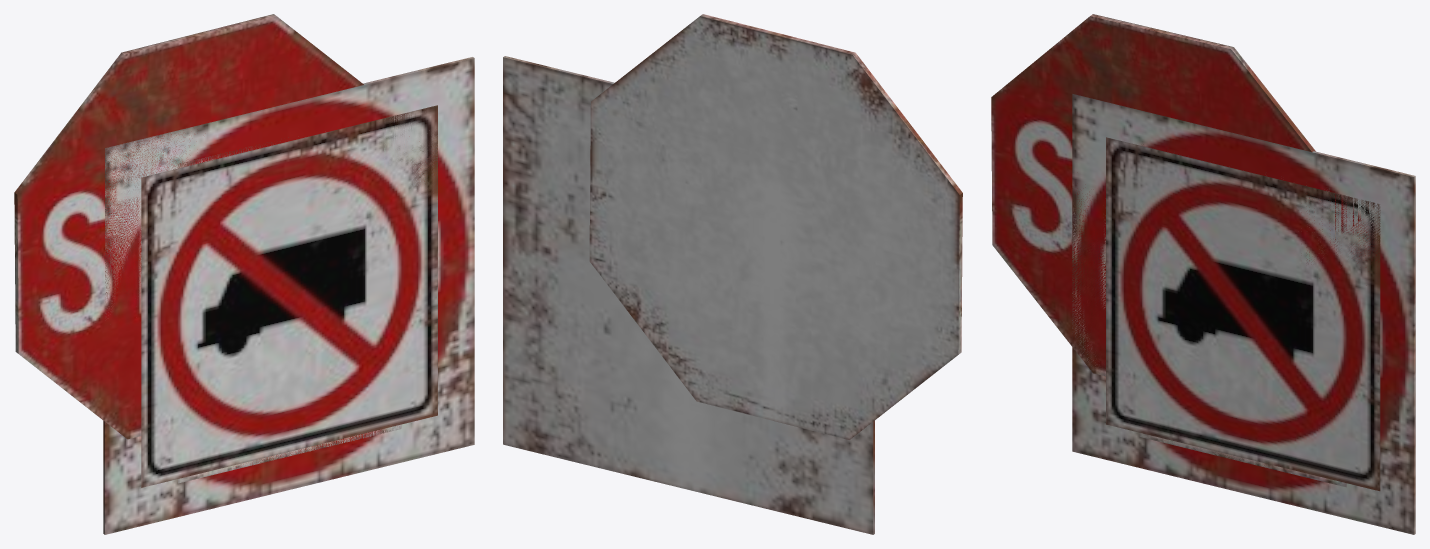
Rendered from sign_set1.glb.
3 renders of one model, left to right at view 1: azimuth 30°, elevation 25°; view 2: azimuth 150°, elevation 25°; view 3: azimuth 330°, elevation 25°, orthographic. The views are drawn at different scales.
Visible parts, largest first — view 1: notruck, stop, dne, nobike, noparking, nostanding; view 2: stop, dne; view 3: notruck, dne, stop, nostanding, nobike, noparking.
Part boxes in pixels (x1,y1,x2,y2): notruck: (141,111,437,487); stop: (14,14,363,439); dne: (103,57,474,534); nobike: (380,105,437,194); noparking: (178,137,397,483); nostanding: (227,424,401,468); stop: (589,14,962,439); dne: (503,56,874,534); notruck: (1106,137,1380,491); dne: (1072,94,1415,534); stop: (991,14,1315,376); nostanding: (1140,144,1346,487); nobike: (1317,190,1380,247); noparking: (1139,185,1329,465).
Size of the model in its own units: 0.94 by 0.9369 by 0.0109.
1 material, 1 textured.
